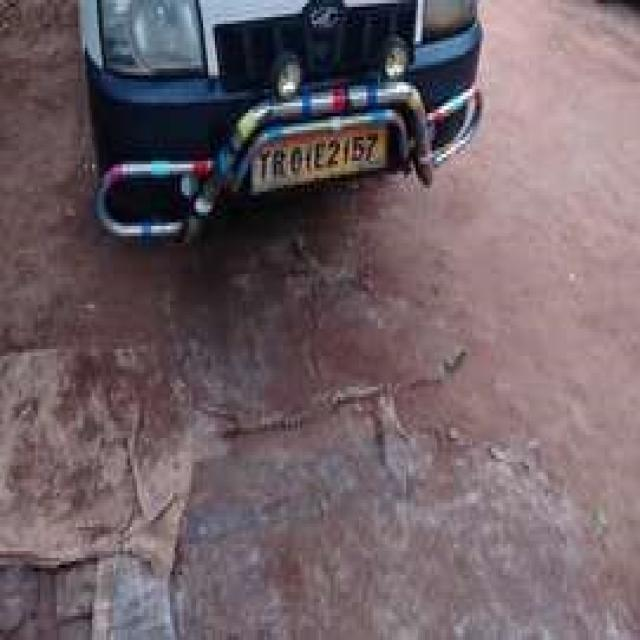licenseplate: (250, 125, 390, 190)
